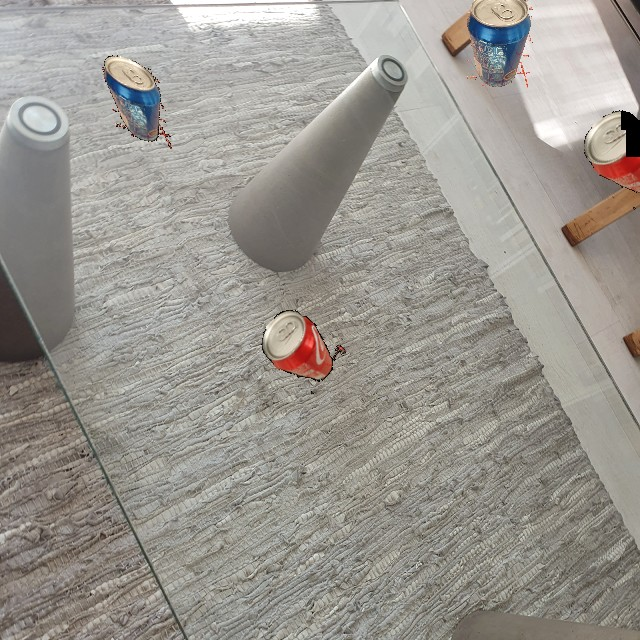coca cola: (248, 304, 352, 396), (573, 99, 640, 212)
pepsi: (98, 51, 175, 150), (467, 0, 533, 88)
